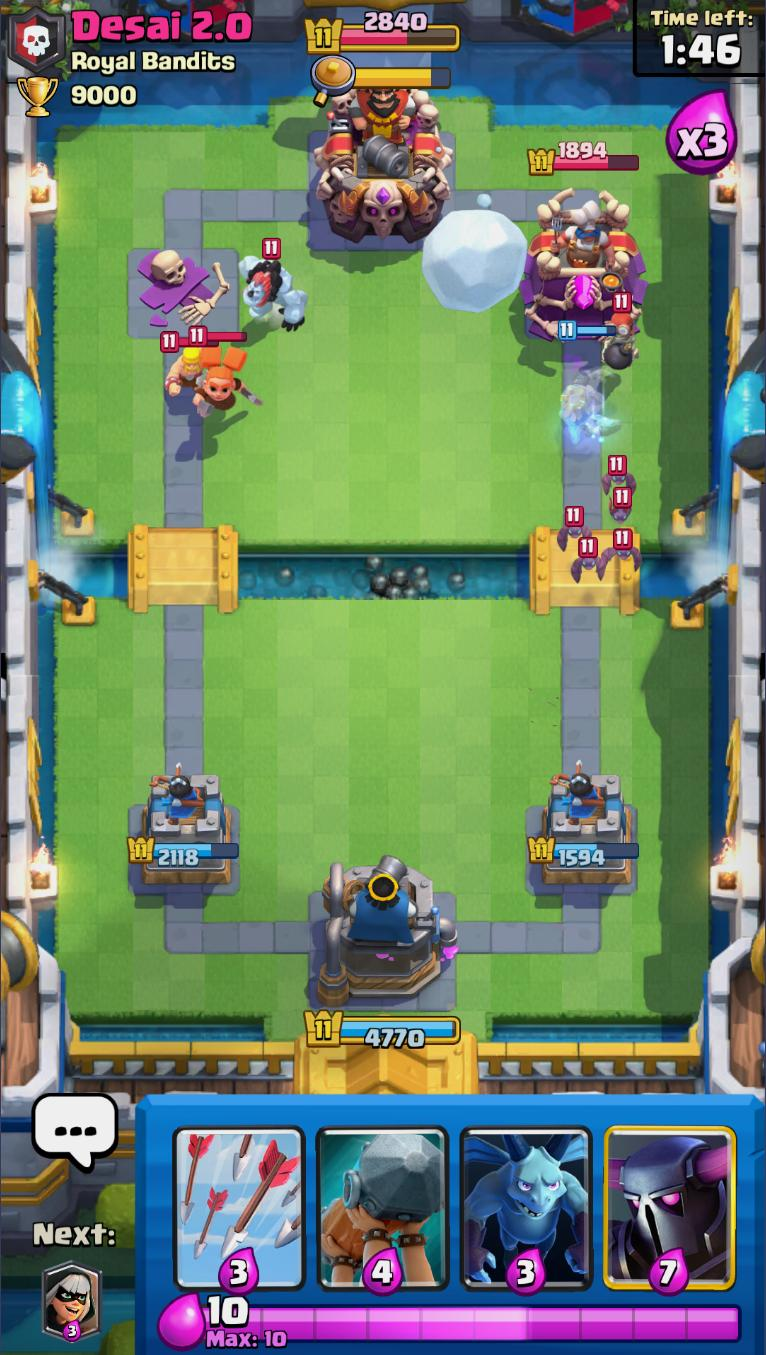ArrowDeck: (165, 1095, 314, 1296)
BanditNext: (38, 1260, 105, 1341)
Barbarian: (159, 331, 203, 397)
Bat: (594, 529, 648, 580), (554, 504, 594, 551), (598, 454, 640, 497), (569, 538, 607, 585), (605, 486, 636, 524)
BattleRamDeck: (310, 1095, 455, 1299)
Berserker: (187, 326, 265, 420)
Bomber: (602, 291, 645, 376)
Chef: (552, 199, 618, 273)
Elixir: (203, 1293, 748, 1351)
EnemyTower: (516, 186, 651, 346)
EnemyTowerBrocken: (128, 244, 242, 344)
GiantSnowball: (421, 207, 528, 313)
IceGolem: (235, 238, 310, 333)
KingTower: (310, 85, 456, 241)
KingTowerHP: (302, 10, 463, 56)
MinionsDeck: (450, 1096, 604, 1298)
MyKingHP: (301, 1006, 463, 1053)
MyKingTower: (315, 856, 460, 1008)
MyPrincessTower: (126, 766, 238, 891), (539, 771, 638, 889)
MyPrincessTowerHP: (525, 832, 642, 870), (126, 835, 243, 868)
MyRoyaleGhost: (555, 321, 622, 449)
PekkaDeck: (599, 1098, 744, 1296)
TowerPrincessHP: (528, 138, 641, 178)
